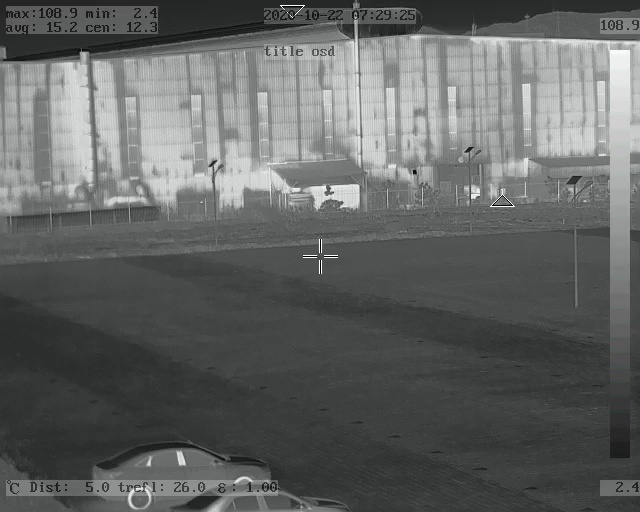vehicle: (88, 438, 271, 507)
